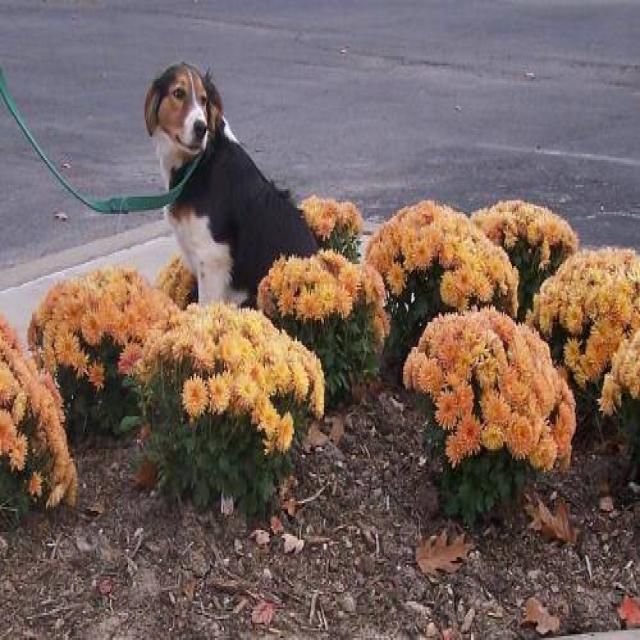dog: (142, 58, 321, 308)
